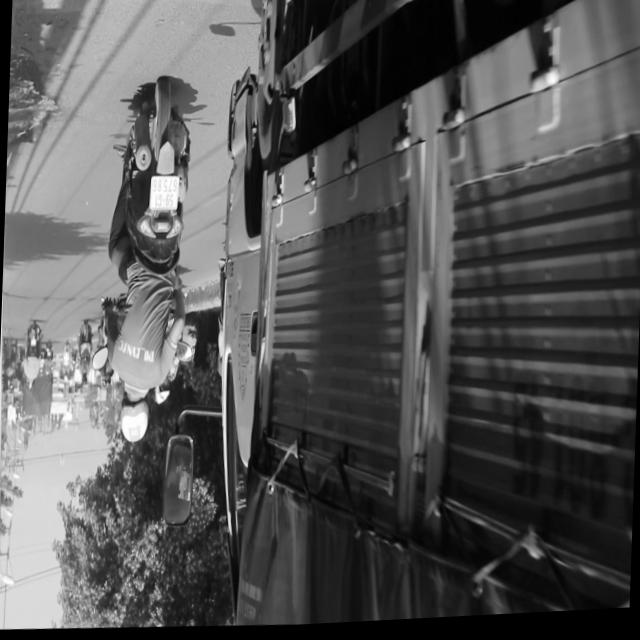helmet: (118, 390, 151, 444)
licenseplate: (97, 77, 199, 451)
nohelmet: (148, 176, 178, 212)
